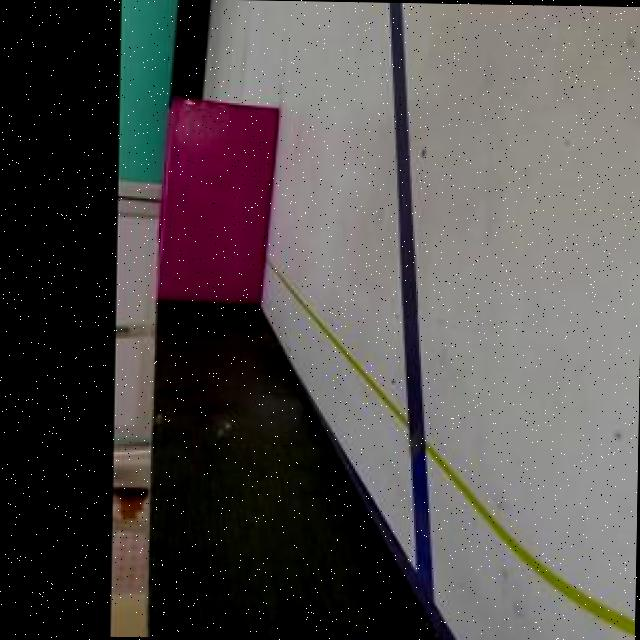xparking: (164, 102, 278, 282)
